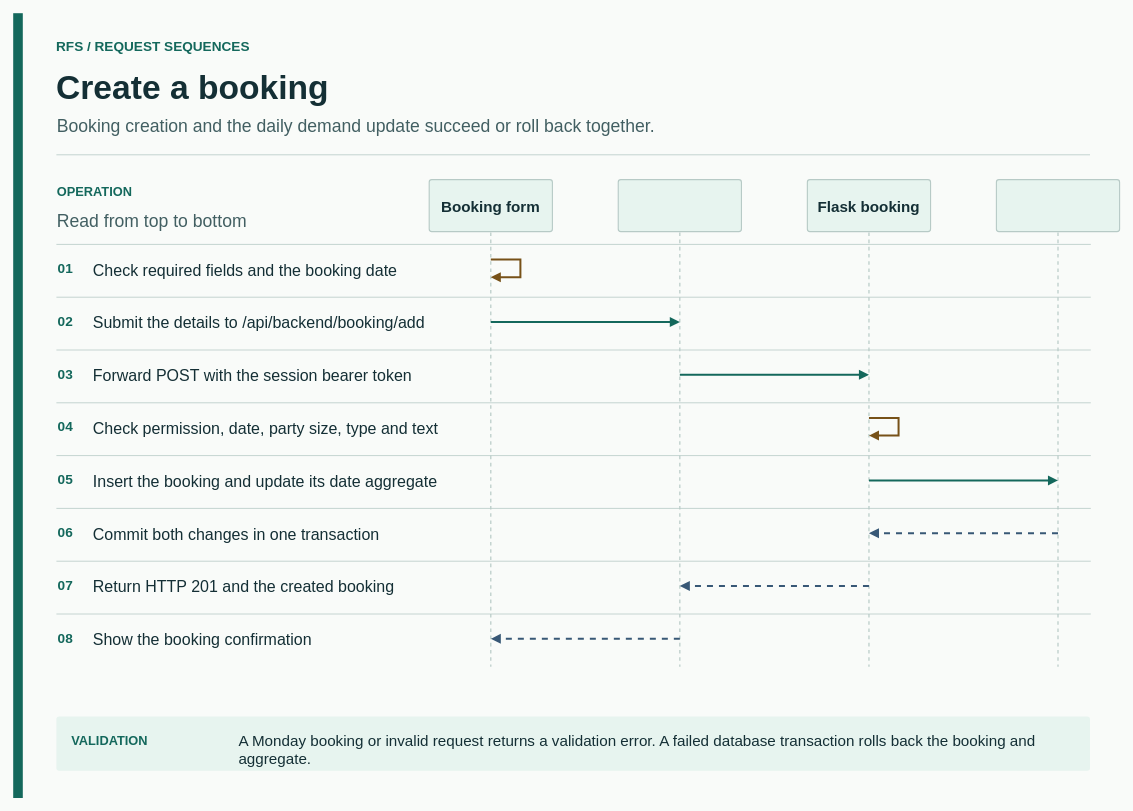
The diagram is 1133 pixels wide and 811 high, and some of its shapes have lost their labels. Each missing label, with the box of its shape:
Next.js proxy: (617, 179, 742, 232)
PostgreSQL: (995, 179, 1120, 232)
